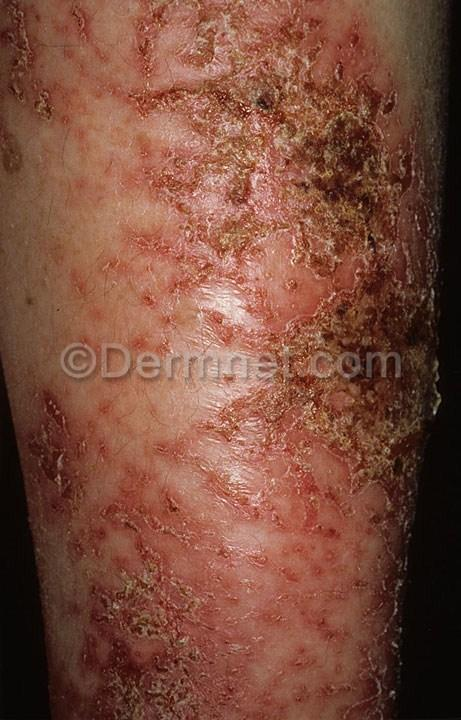Eczema: (152, 0, 461, 339), (22, 389, 229, 720), (255, 389, 412, 720), (2, 0, 122, 193)
